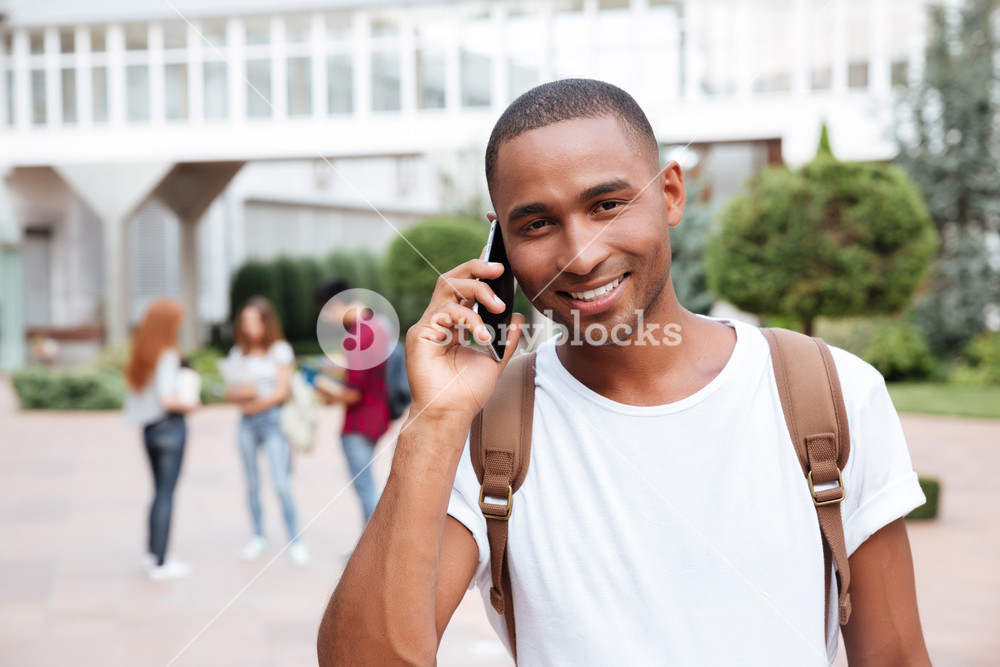phone: (455, 227, 534, 368)
talk: (400, 171, 672, 412)
